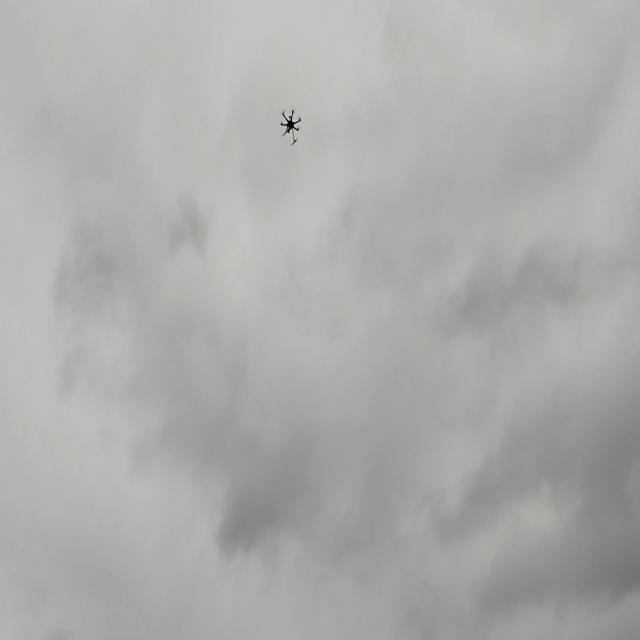drone: (278, 106, 304, 144)
